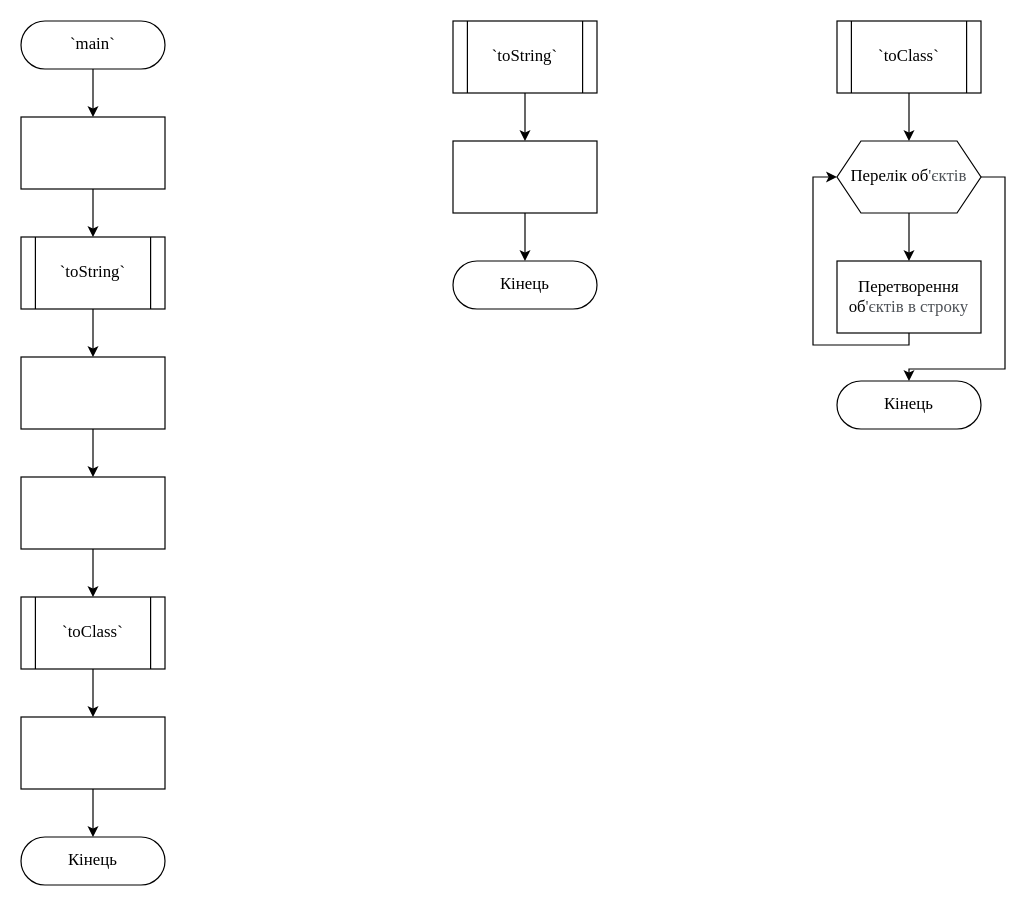
Image size: 1036x906. Some labels were removed from this diagram. The shapes that lost their labels are listed below. From the top down, each one's box as (x1, y1, x2, y2) in pixels, then its label:
(20, 116, 165, 189): Заповнення списку
(452, 140, 597, 213): Перетворення обєкту в поток
(20, 356, 165, 429): Виведення строки
(20, 476, 165, 549): Читання строк з файлу
(20, 716, 165, 789): Запис списку до файлу
